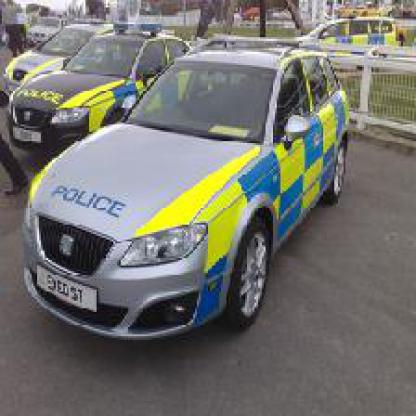emergency: (17, 24, 364, 321)
